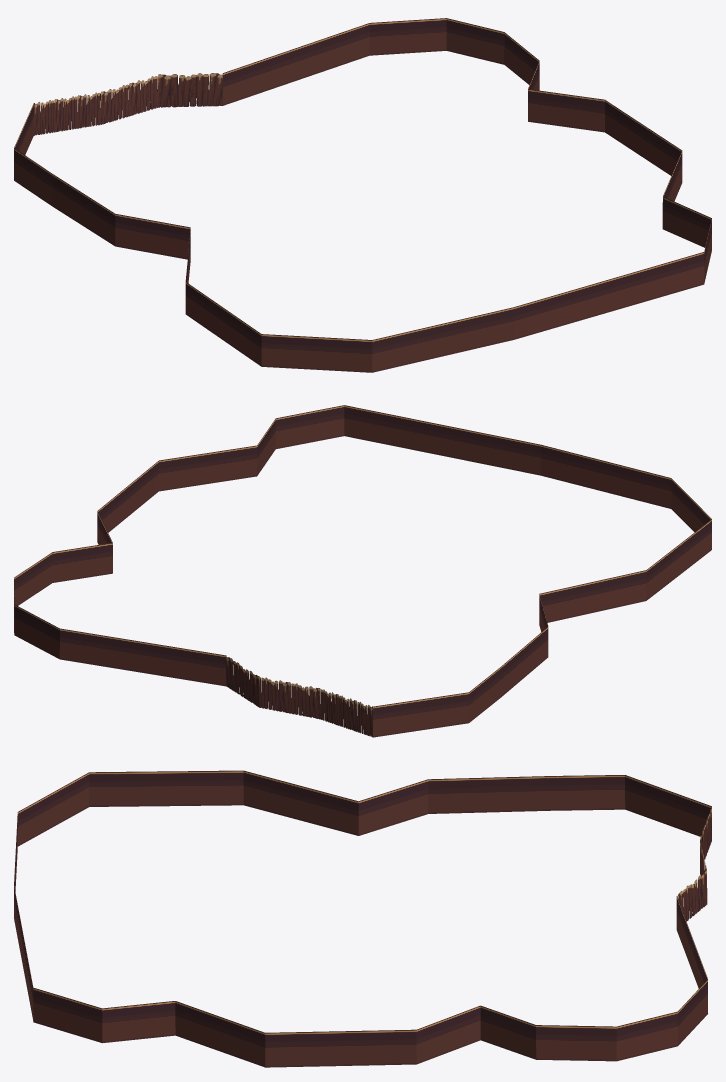
Rendered from SceneLimits_Collider.fbx.
3 renders of one model, top to bottom at view 1: azimuth 30°, elevation 25°; view 2: azimuth 150°, elevation 25°; view 3: azimuth 270°, elevation 25°, orthographic. The views are drawn at different scales.
Visible parts, largest first — view 1: Cylinder003; view 2: Cylinder003; view 3: Cylinder003.
Part boxes in pixels (x1,y1,x2,y2): Cylinder003: [14, 18, 711, 372]; Cylinder003: [14, 405, 711, 737]; Cylinder003: [14, 770, 711, 1067].
Size of the model in its own units: 133 by 9.22 by 150.
Materials: 1 (1 with a texture image).
